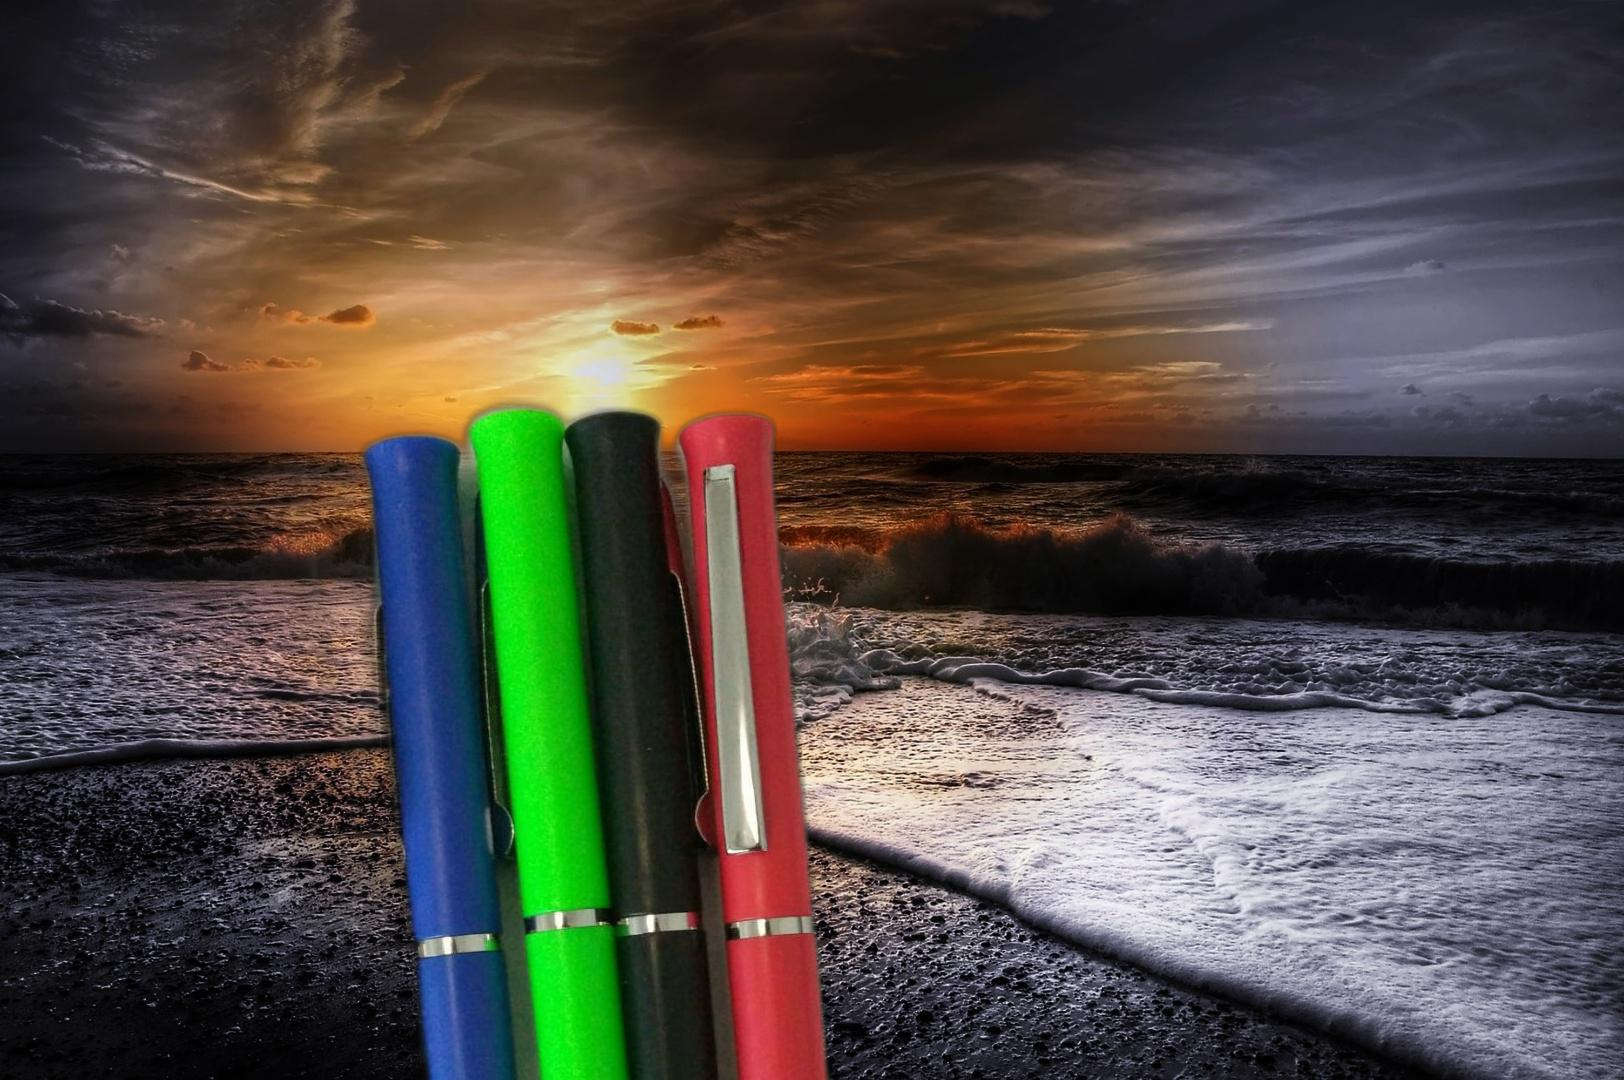penholder: (246, 397, 879, 1080)
